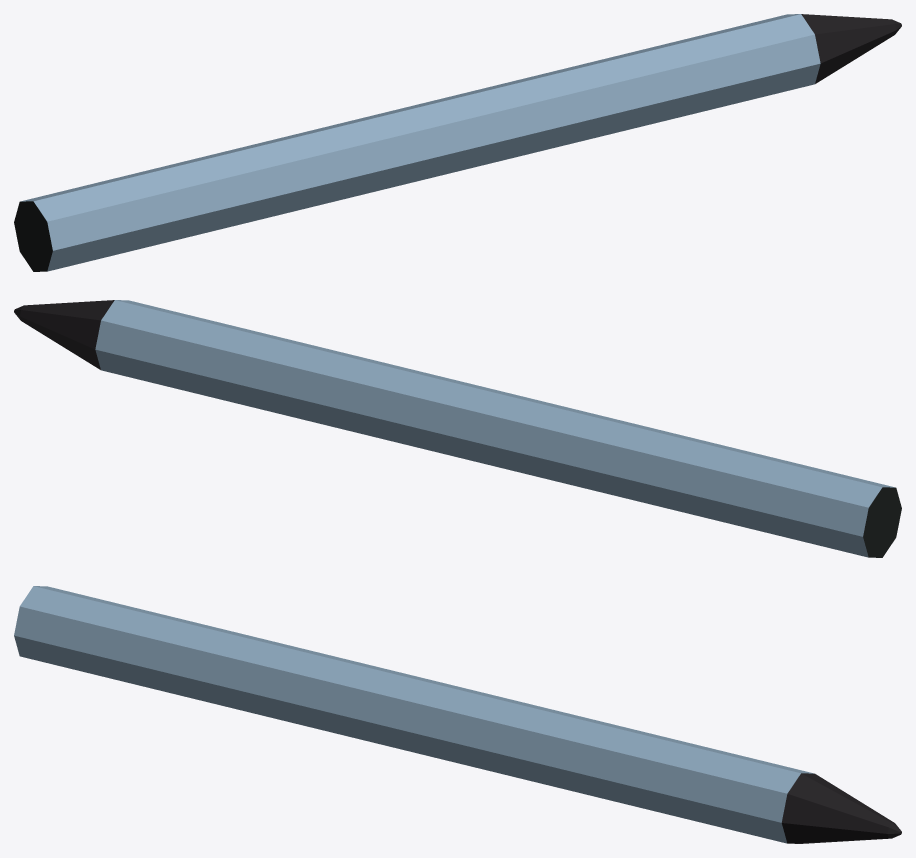
File: Pen_Black.fbx
3 renders of one model, top to bottom at view 1: azimuth 30°, elevation 25°; view 2: azimuth 150°, elevation 25°; view 3: azimuth 330°, elevation 25°, orthographic.
Visible parts, largest first — view 1: Black_pen; view 2: Black_pen; view 3: Black_pen.
Boxes of the visible parts, x1,y1,x2,y2 form: Black_pen: (14,14,901,271); Black_pen: (14,300,901,557); Black_pen: (14,586,901,843).
Size of the model in its own units: 0.161 by 0.0125 by 0.0125.
